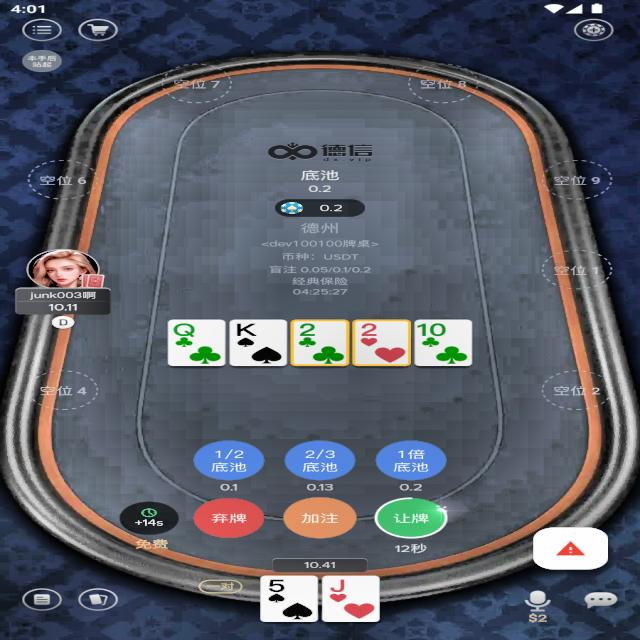10m: (416, 322, 448, 337)
2h: (358, 322, 382, 338)
2m: (298, 322, 318, 338)
5s: (266, 578, 287, 593)
Jh: (327, 577, 349, 593)
Ks: (235, 321, 259, 337)
Qm: (171, 322, 198, 337)
